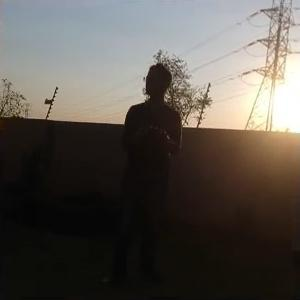follow: (95, 58, 186, 286)
